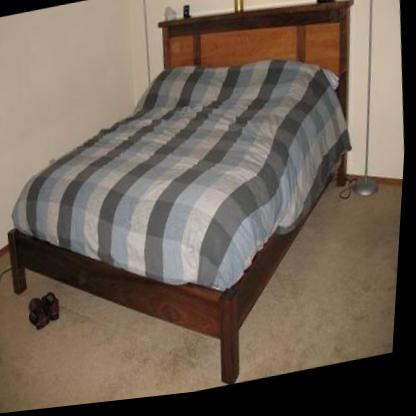Bed: (0, 0, 392, 416)
